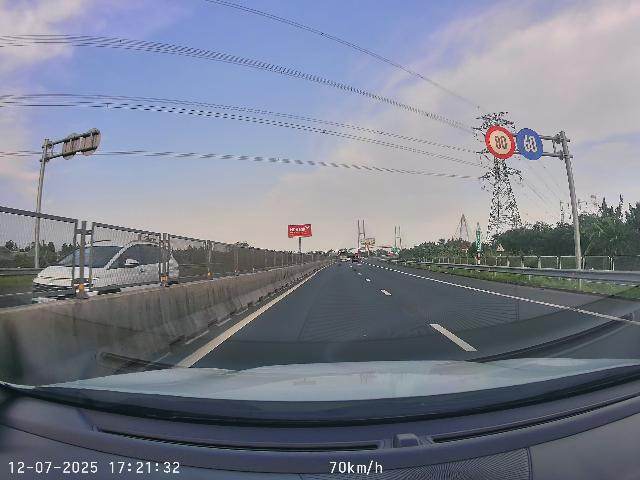127-toc-do-toi-da-80: (485, 126, 515, 159)
306-toc-do-toi-thieu-60: (516, 127, 544, 161)
